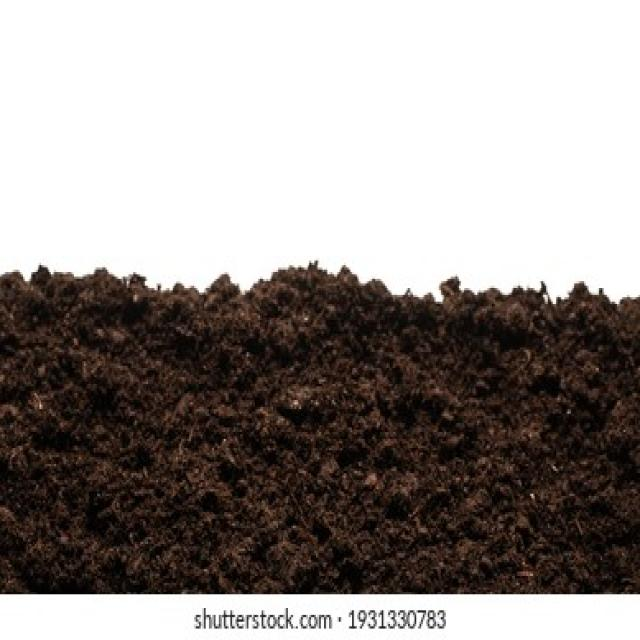Black Soil: (43, 298, 625, 564)
